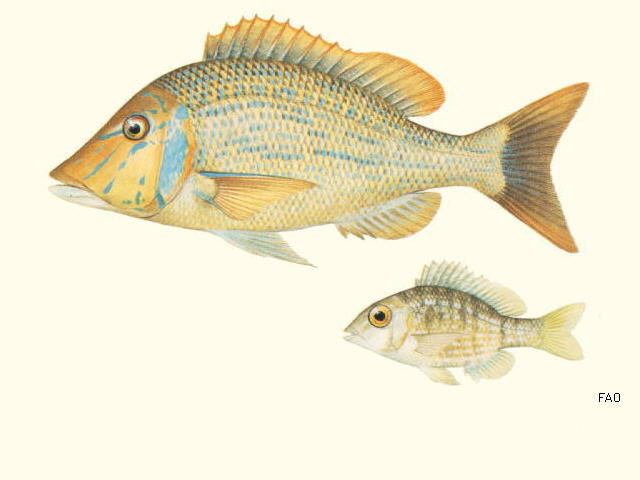fish: (49, 13, 590, 269), (341, 262, 587, 386)
